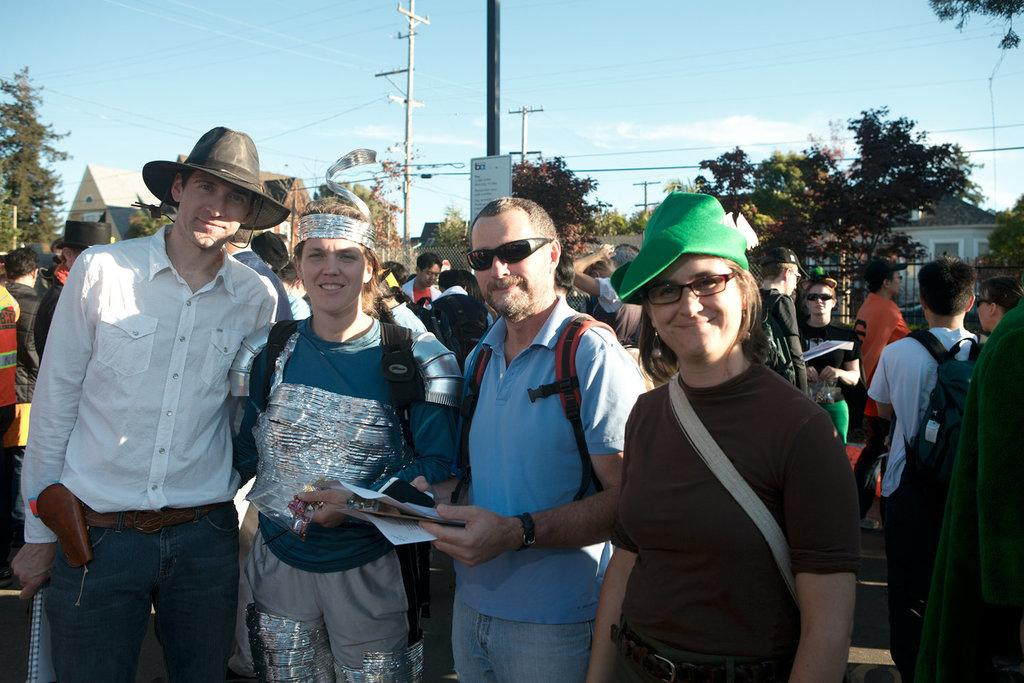Hat: (140, 126, 293, 248), (56, 218, 114, 249), (760, 247, 808, 280), (860, 256, 906, 284), (805, 275, 834, 293)
